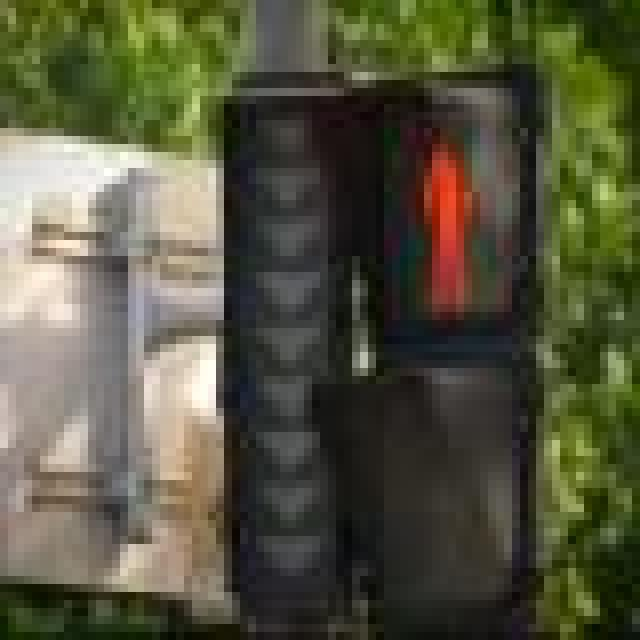redlight: (345, 80, 543, 640)
